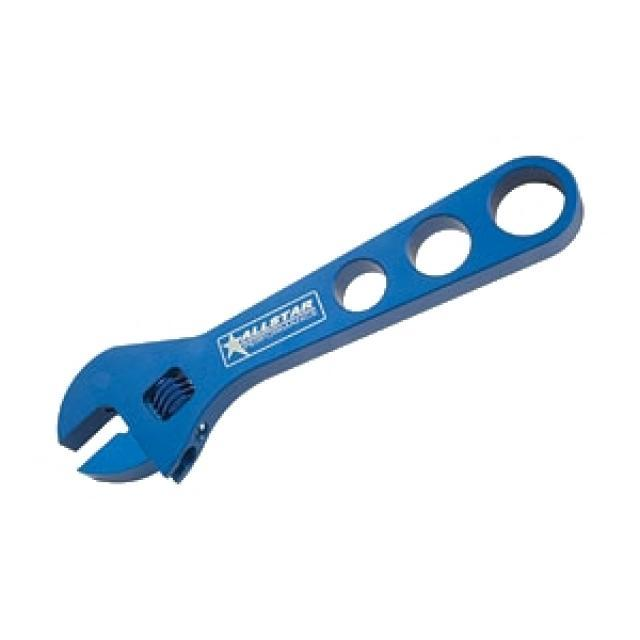wrench: (46, 144, 590, 506)
